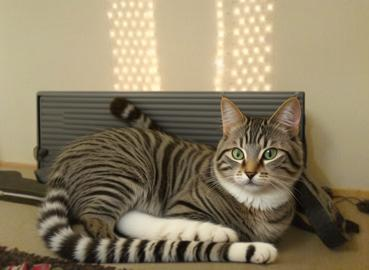cat: (36, 91, 304, 263)
